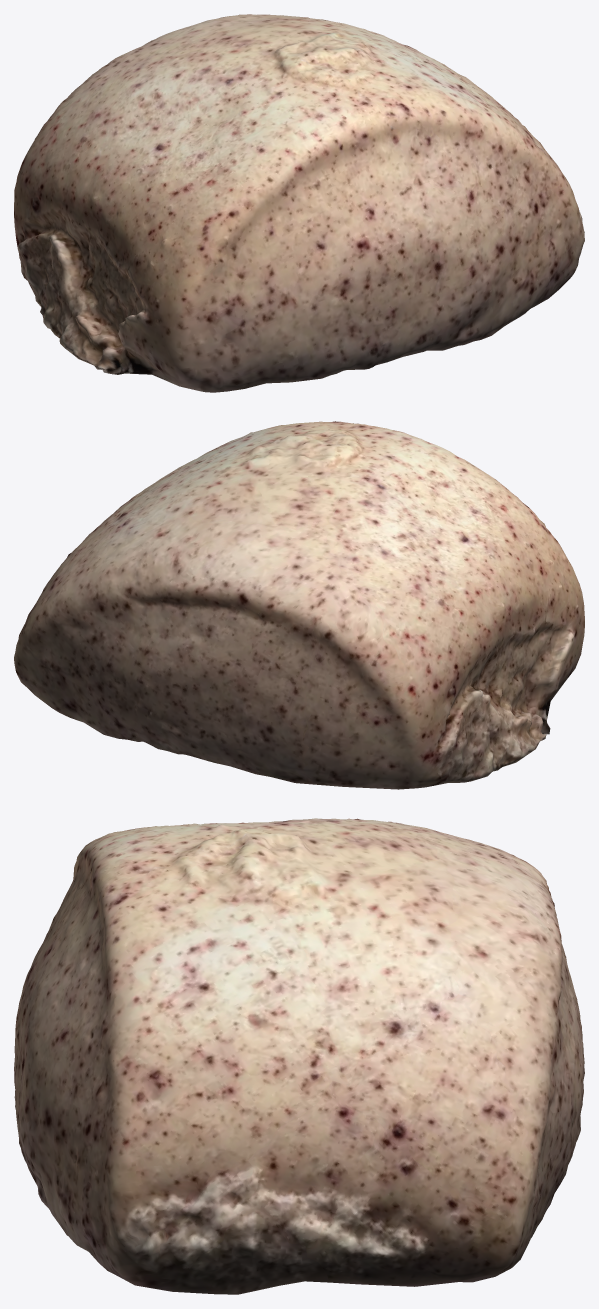
File: 紫薯馒头.glb
The picture shows the model from 3 angles, top to bottom: view 1: azimuth 30°, elevation 25°; view 2: azimuth 150°, elevation 25°; view 3: azimuth 270°, elevation 25°; orthographic projection. The views are drawn at different scales.
Visible parts, largest first — view 1: 紫薯馒头.usdz; view 2: 紫薯馒头.usdz; view 3: 紫薯馒头.usdz.
Part boxes in pixels (bbox=[...]): 紫薯馒头.usdz: bbox=[14, 14, 584, 392]; 紫薯馒头.usdz: bbox=[14, 421, 584, 789]; 紫薯馒头.usdz: bbox=[14, 818, 584, 1294].
Size of the model in its own units: 0.0955 by 0.0514 by 0.0787.
1 material, 1 textured.
